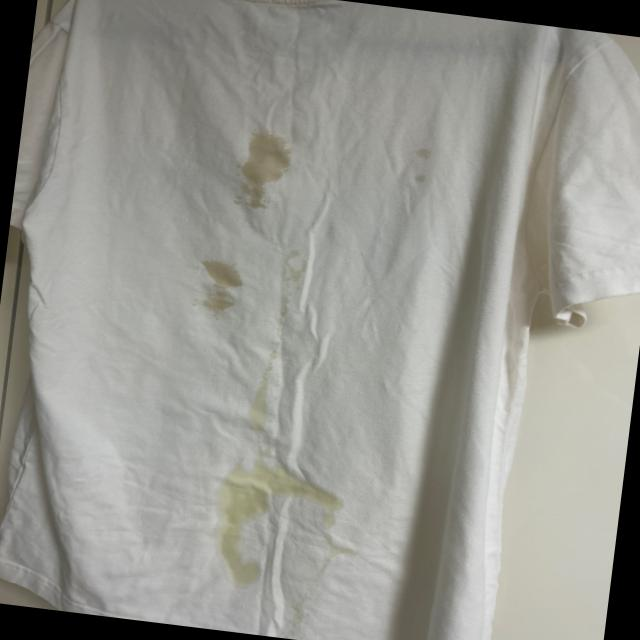stain: (210, 463, 340, 528), (196, 499, 272, 592), (228, 128, 300, 212), (240, 343, 290, 438), (189, 248, 255, 315), (388, 135, 436, 184), (310, 528, 366, 557), (272, 260, 312, 294)
